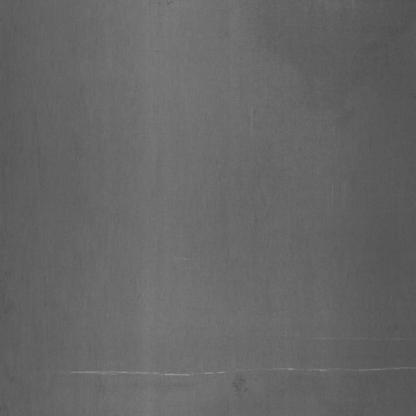crease: (64, 320, 403, 388)
